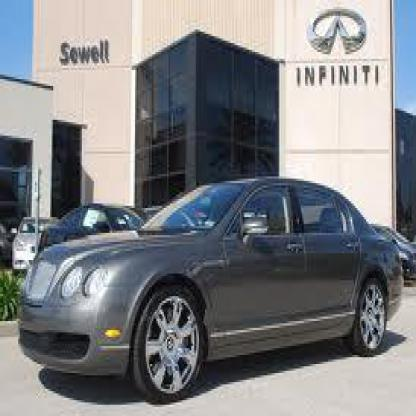Vehicle: (17, 174, 405, 407)
